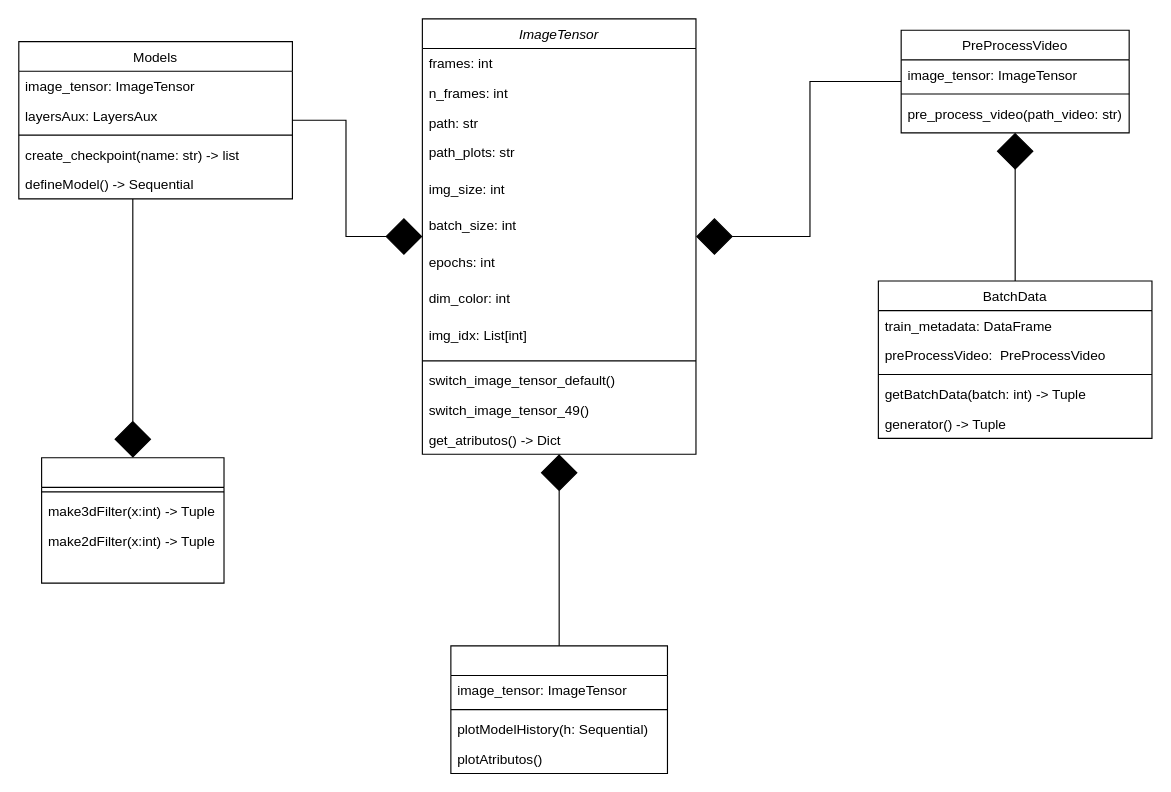
Some shapes in this 1171 by 792 pixel diagram are drawn without their labels. Each missing label, with the box of its shape:
LayersAux: (40, 457, 224, 583)
SavePlots: (450, 645, 667, 773)
